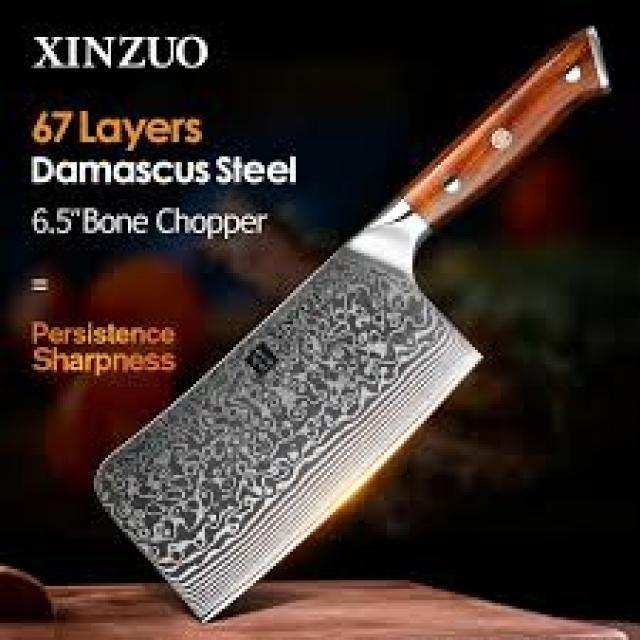Knife: (71, 18, 614, 611)
